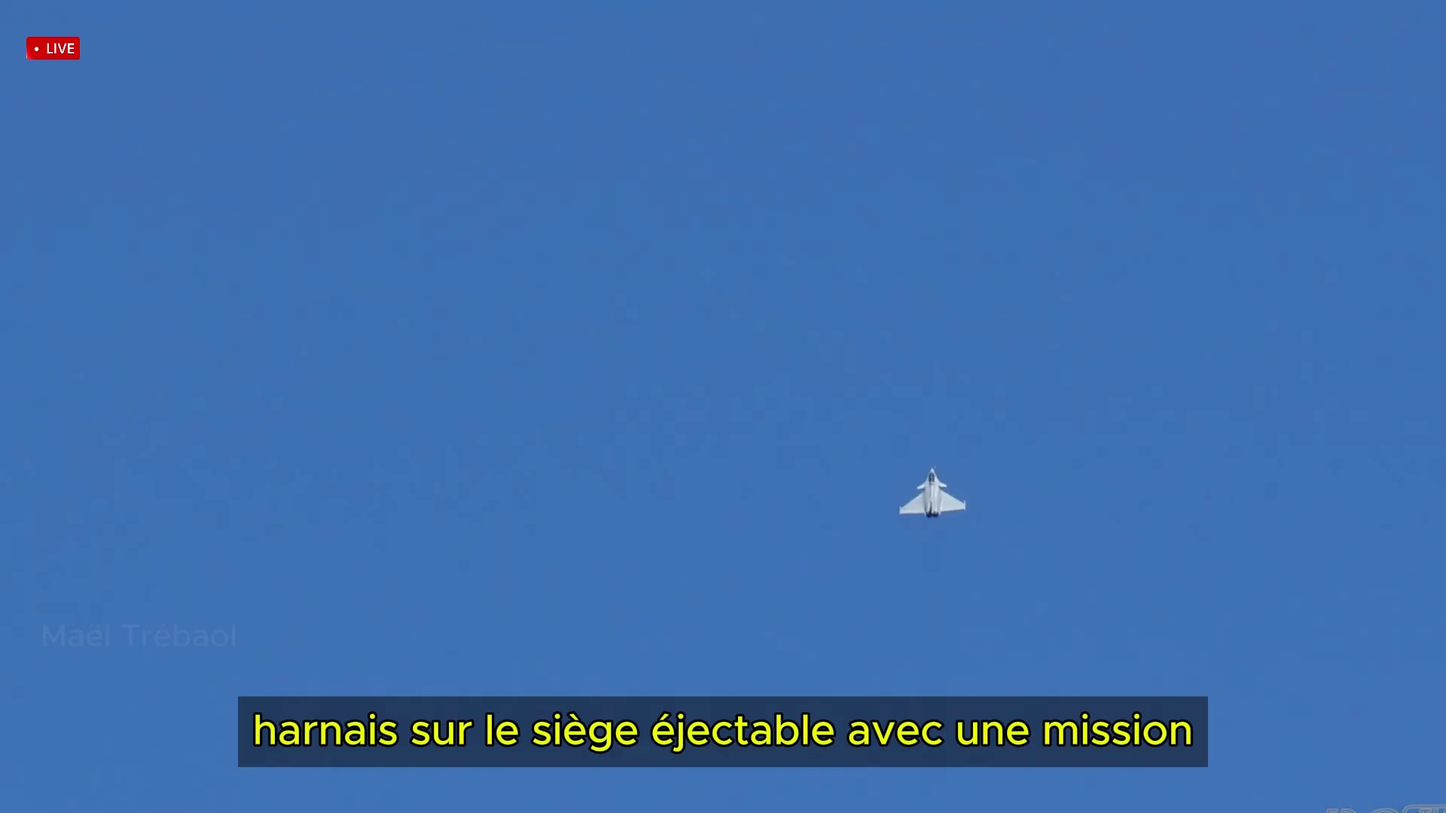Rafale: (899, 466, 968, 522)
